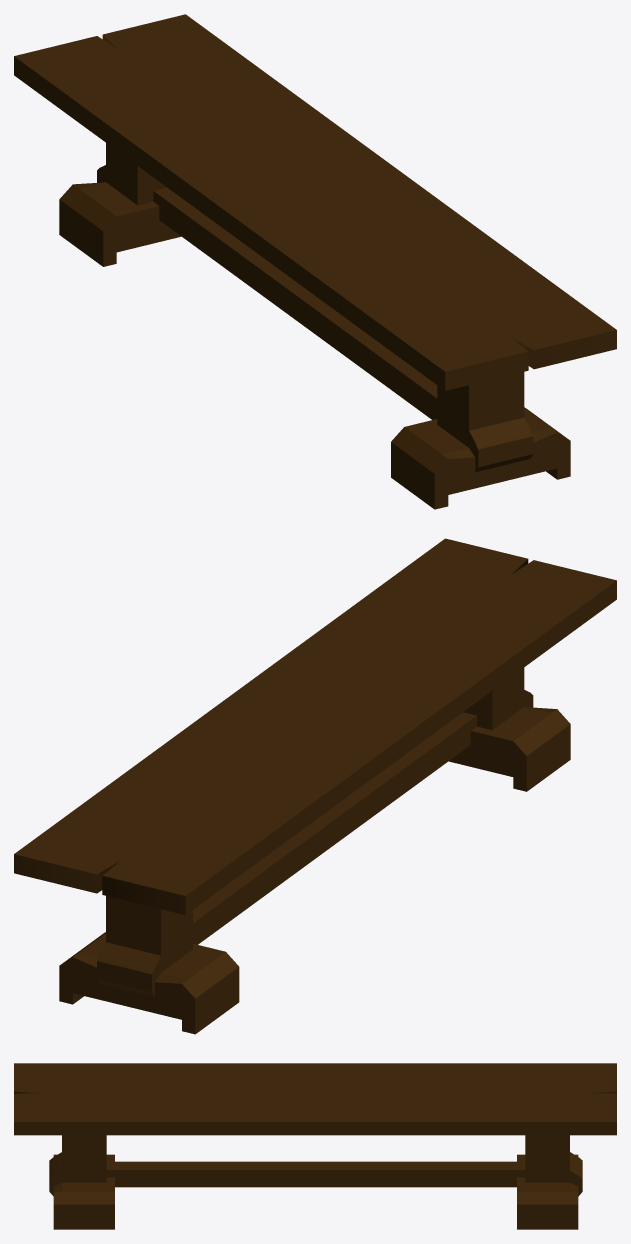
The model's file is Bench.fbx.
3 views of the same model, one above another, from view 1: azimuth 30°, elevation 25°; view 2: azimuth 150°, elevation 25°; view 3: azimuth 270°, elevation 25° (orthographic). The views are drawn at different scales.
Parts seen in each view (by area): view 1: pasted__pCube13; view 2: pasted__pCube13; view 3: pasted__pCube13.
Part boxes in pixels (<box>): pasted__pCube13: <box>14,14,616,509</box>; pasted__pCube13: <box>14,538,616,1034</box>; pasted__pCube13: <box>14,1063,616,1229</box>.
Bounding box in the file's own units: 4.3 × 3.9 × 18.72.
